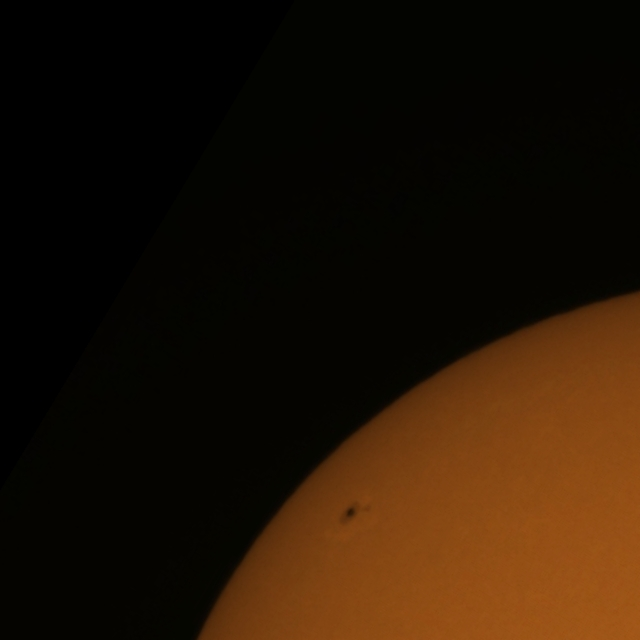sunspot: (340, 501, 372, 524)
